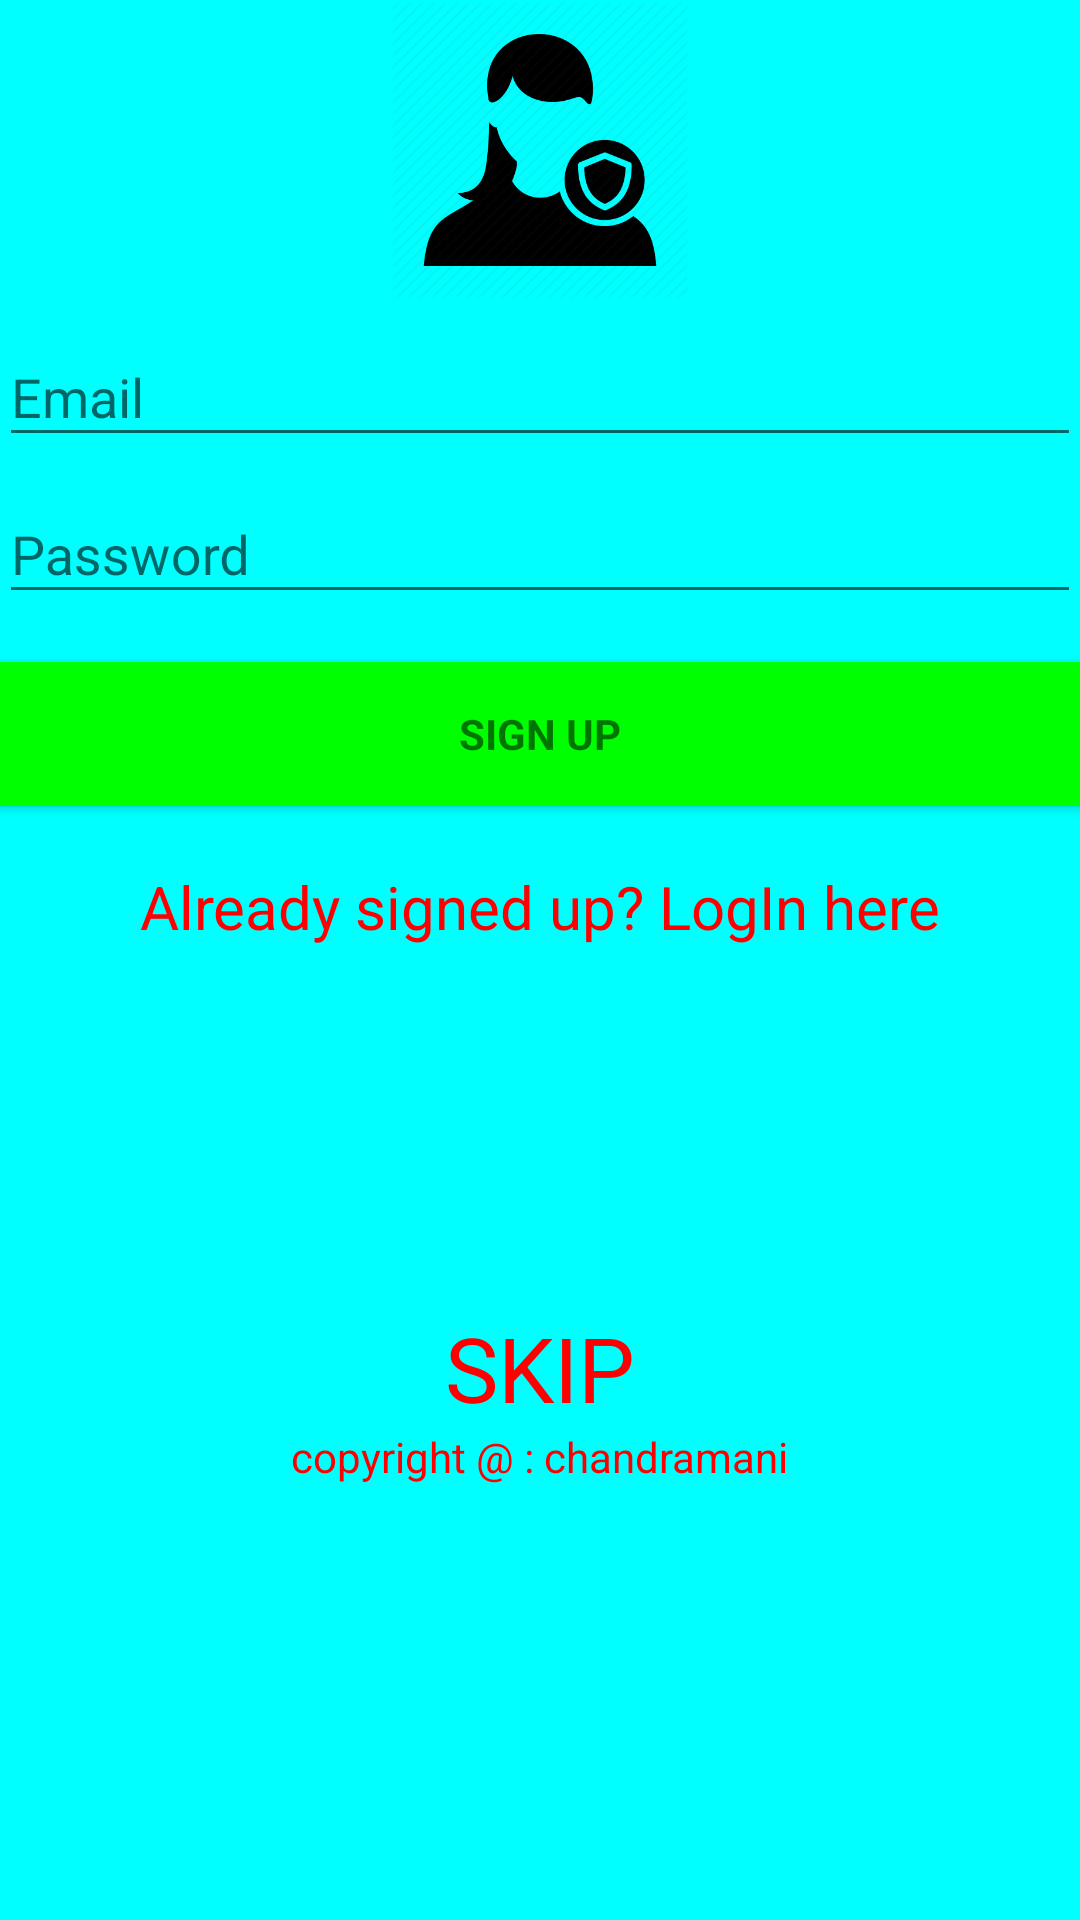

Locate icon controls on the screen. Image size 1080 × 1920, boxes as (x1, y1, x2, y2).
defaultloginimage: (423, 34, 657, 266)
